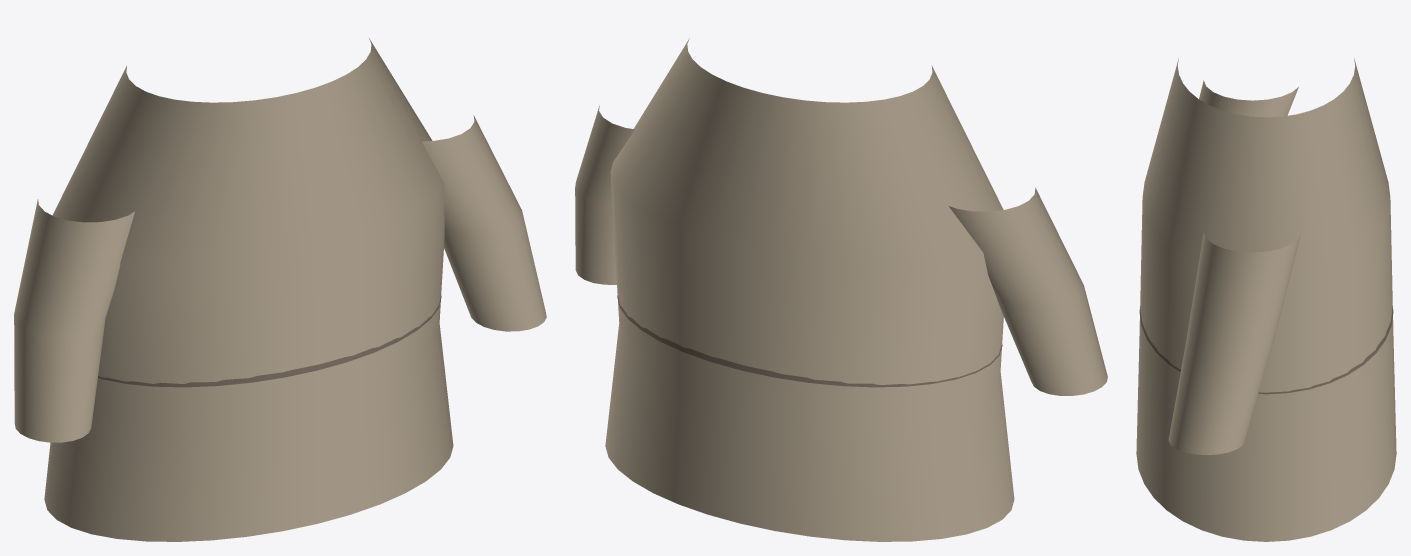
File: burberry-trench-coat.glb
3 views of the same model, side by side, from view 1: azimuth 30°, elevation 25°; view 2: azimuth 150°, elevation 25°; view 3: azimuth 270°, elevation 25° (orthographic). The views are drawn at different scales.
Parts seen in each view (by area): view 1: trench_long_body, trench_left_sleeve, trench_right_sleeve, trench_belt; view 2: trench_long_body, trench_left_sleeve, trench_right_sleeve, trench_belt; view 3: trench_long_body, trench_right_sleeve, trench_left_sleeve, trench_belt.
Part boxes in pixels (<box>): trench_long_body: <box>44,38,453,541</box>; trench_left_sleeve: <box>14,199,134,442</box>; trench_right_sleeve: <box>422,115,546,331</box>; trench_belt: <box>98,295,441,387</box>; trench_long_body: <box>605,38,1014,541</box>; trench_left_sleeve: <box>949,187,1107,395</box>; trench_right_sleeve: <box>575,105,634,284</box>; trench_belt: <box>617,295,1002,387</box>; trench_long_body: <box>1136,58,1396,541</box>; trench_right_sleeve: <box>1168,232,1301,454</box>; trench_left_sleeve: <box>1199,80,1298,117</box>; trench_belt: <box>1139,307,1393,394</box>.
Bounding box in the file's own units: 0.736 × 0.56 × 0.34.
